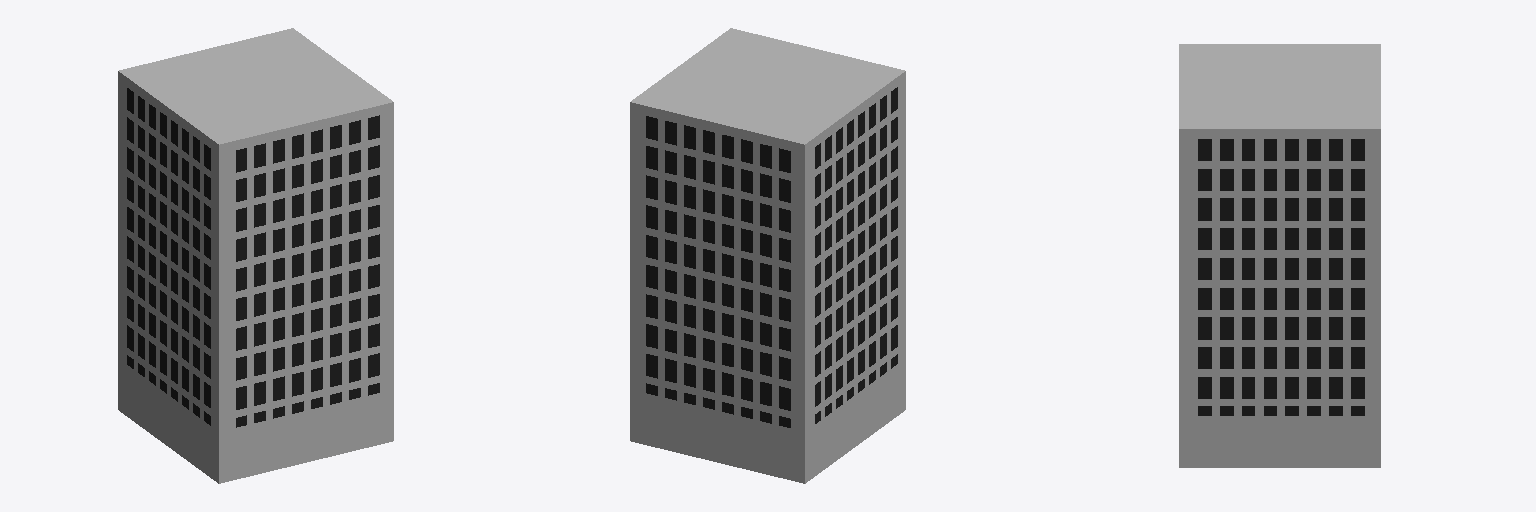
3 views of the same model, side by side, from view 1: azimuth 30°, elevation 25°; view 2: azimuth 150°, elevation 25°; view 3: azimuth 270°, elevation 25° (orthographic).
Parts seen in each view (by area): view 1: cuboid; view 2: cuboid; view 3: cuboid.
Part boxes in pixels (left/top/right/bottom): cuboid: left=118, top=28, right=393, bottom=483; cuboid: left=630, top=28, right=905, bottom=483; cuboid: left=1179, top=44, right=1380, bottom=467.
Bounding box in the file's own units: 4.62 × 8.56 × 4.62.
1 materials, 1 textured.